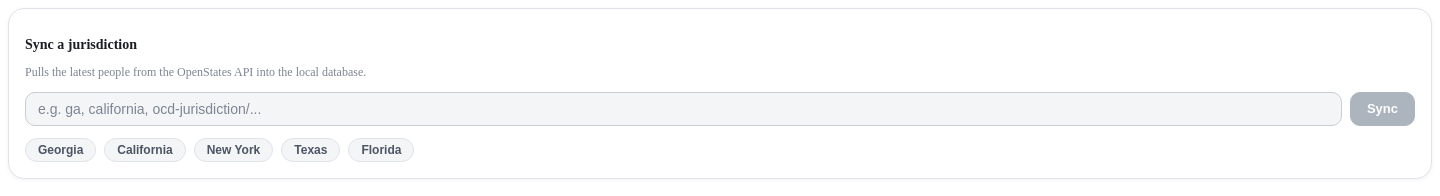
Test case: SyncPanel › fills input when preset is clicked
Click the button "Georgia" at (61, 150), box x1=25 y1=138 x2=96 y2=162
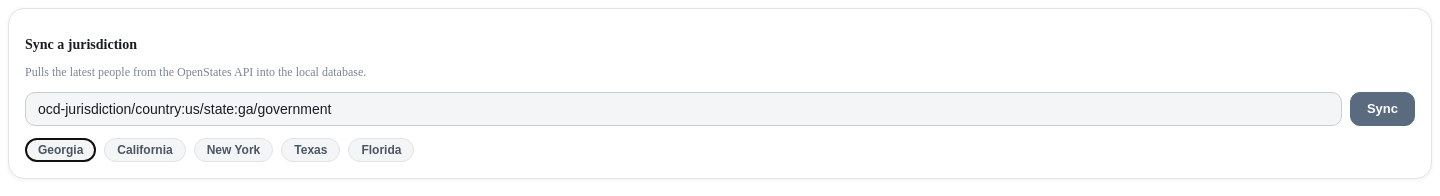
Now the field named "Jurisdiction to sync" holds "ocd-jurisdiction/country:us/state:ga/government", box x1=25 y1=92 x2=1342 y2=126
